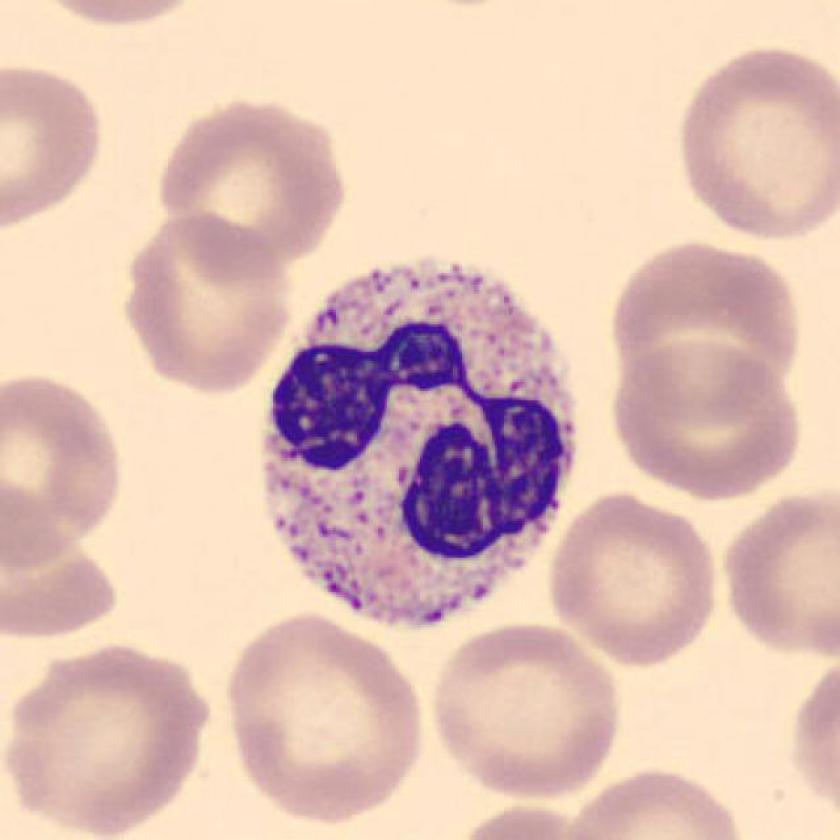neutrophil: (268, 260, 578, 621)
